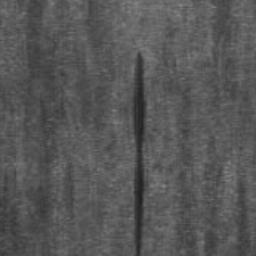Scratches: (132, 52, 147, 256)
